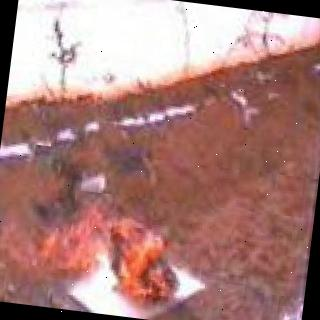fire: (15, 190, 192, 314)
